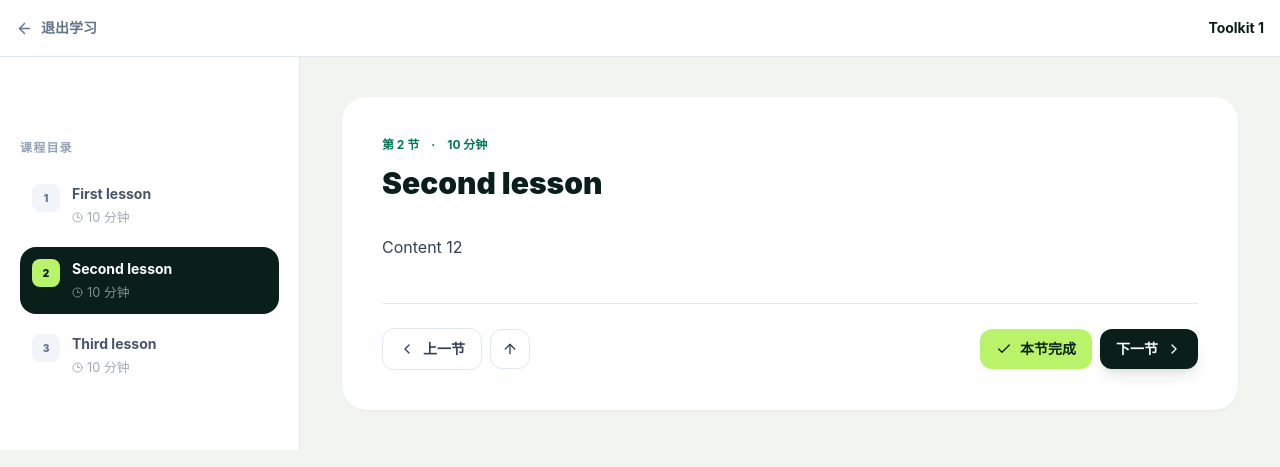
Test: learning space › previous navigates to the selected lesson and scrolls to the top
Expected: the heading "Second lesson" is shown, [382,165,602,201]
Click the button "上一节": {"x": 432, "y": 349} [382,328,482,370]
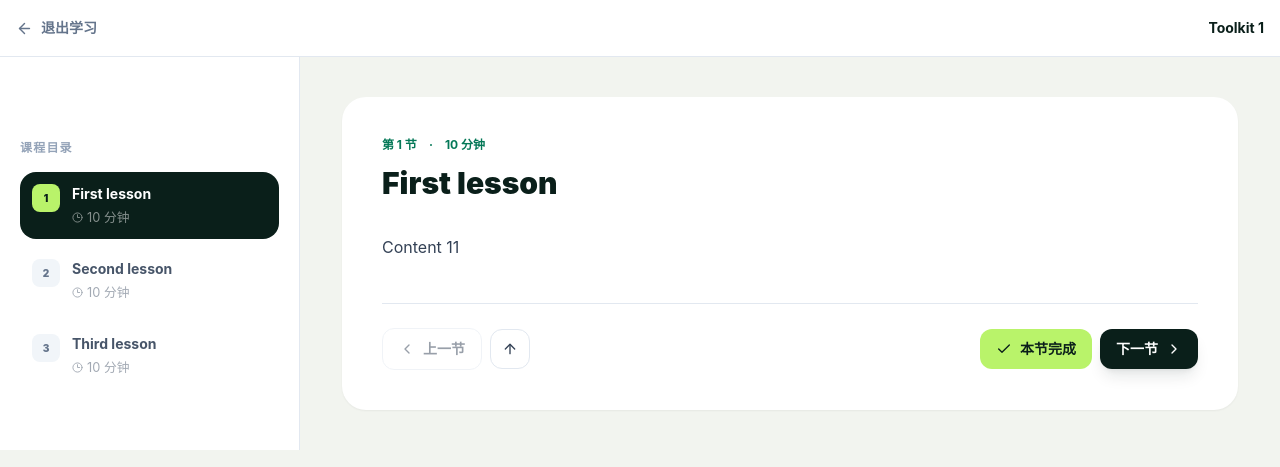
Expected: the heading "First lesson" is shown, [382,165,558,201]
